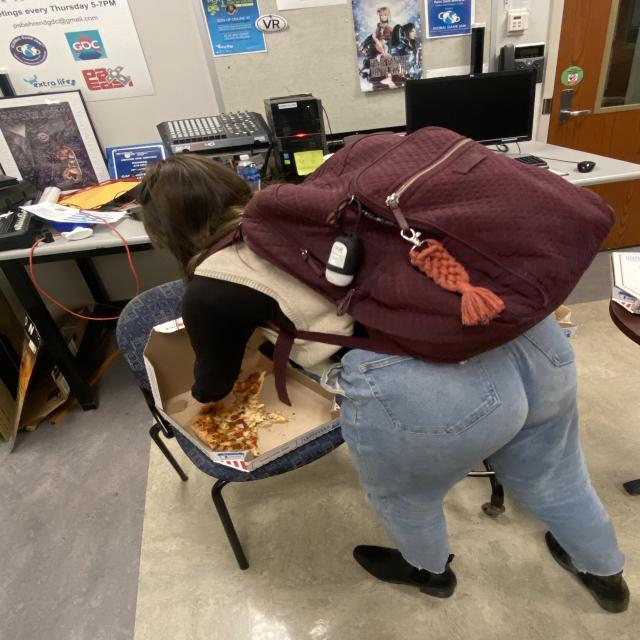Backpacks: (244, 139, 614, 359)
